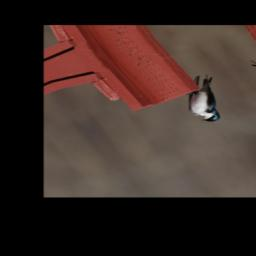Swallow: (168, 73, 242, 126)
